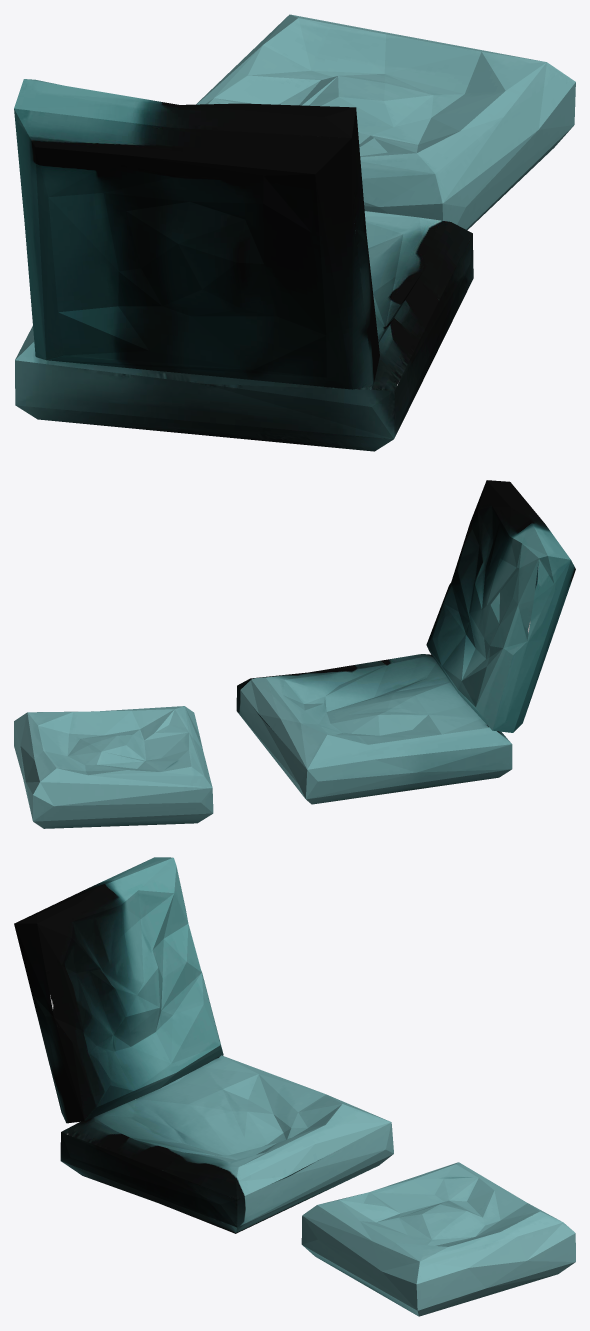
The model's file is chair_cushions.glb.
3 renders of one model, top to bottom at view 1: azimuth 30°, elevation 25°; view 2: azimuth 150°, elevation 25°; view 3: azimuth 270°, elevation 25°, orthographic. The views are drawn at different scales.
Parts seen in each view (by area): view 1: Chair_cushions; view 2: Chair_cushions; view 3: Chair_cushions.
Boxes of the visible parts, left/top/right/bottom form: Chair_cushions: left=14, top=14, right=575, bottom=451; Chair_cushions: left=14, top=480, right=575, bottom=828; Chair_cushions: left=14, top=857, right=575, bottom=1316.
Bounding box in the file's own units: 2.84 × 1.41 × 2.91.
3 materials, 3 textured.
